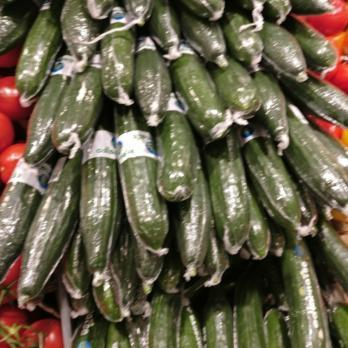Tomato: (63, 0, 318, 348), (9, 157, 66, 303), (15, 0, 74, 111)
